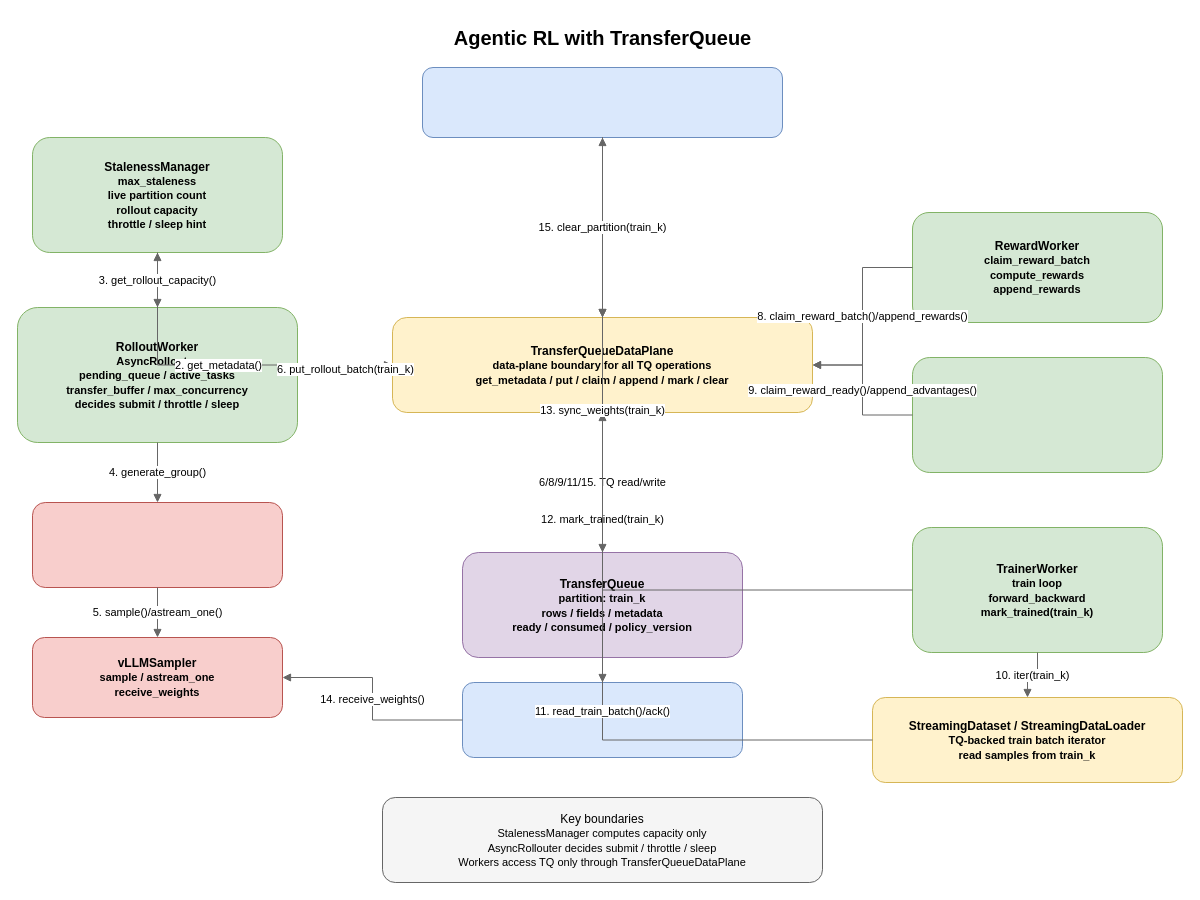
The diagram is 1200 pixels wide and 900 high, and some of its shapes have lost their labels. The centre of each missing label's shape, as x and y in pixels:
AdvantageWorker claim_reward_ready_groups compute_advantages append_advantages: pixel 1037 414
BaseRLPipeline / Controller init roles / run loop / sync train_k: pixel 602 102
CheckpointEngineManager sync weights once per train_k: pixel 602 720
MultiTurnRollout multi-turn / tool loop user env/tool hooks: pixel 157 545
